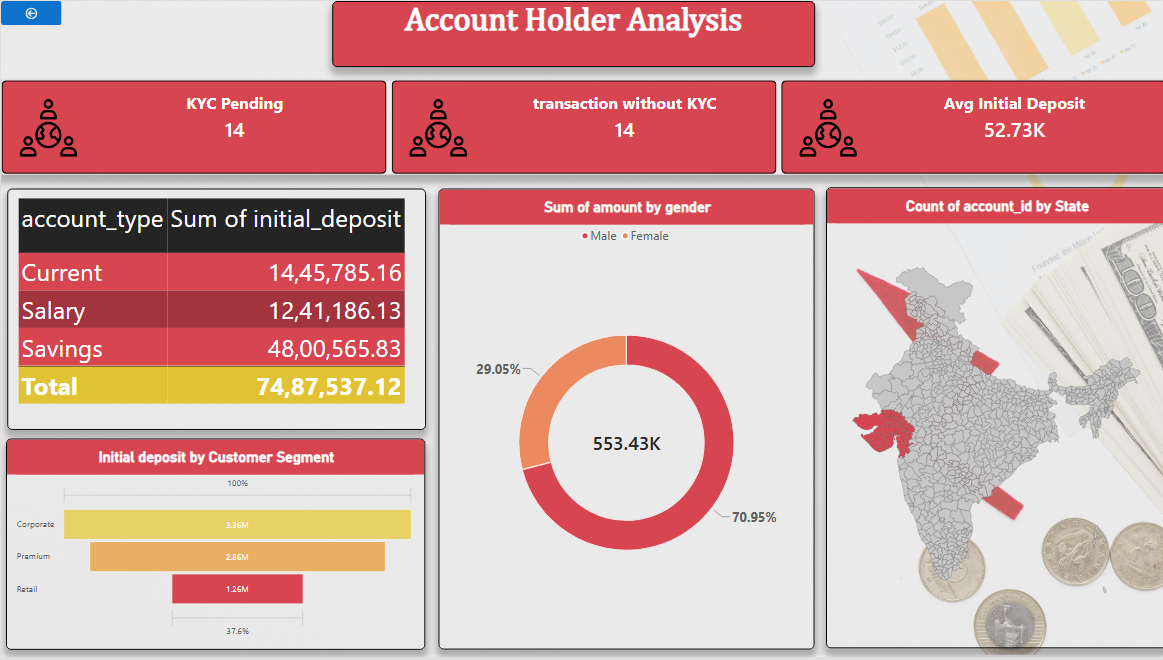

This screenshot's page, from the dashboard's own definition file:
{"tool":"powerbi","page":{"name":"Customer Analysis","canvas":[1920,1080],"ordinal":2},"visuals":[{"type":"textbox","box":[545.5,0,795.5,109.1],"z":0},{"type":"tableEx","fields":{"Values":["account_holders.account_type","Sum(account_holders.initial_deposit)"]},"box":[10.3,308.7,689.5,397.3],"z":1000},{"type":"cardVisual","fields":{"Data":["account_holders.kyc Pending","account_holders.kyc pending but transaction success","account_holders.Avg Initial Deposit"]},"box":[0,129.5,1920.5,156.8],"z":2000},{"type":"shapeMap","title":"Count of account_id by State","fields":{"Category":["account_holders.state"],"Value":["CountNonNull(bank_transactions.account_id)"]},"box":[1358.5,306.7,561.9,759.5],"z":3000},{"type":"donutChart","fields":{"Category":["account_holders.gender"],"Y":["Sum(bank_transactions.amount)"]},"box":[720.4,308.7,619.6,759.5],"z":4000},{"type":"actionButton","box":[0,0,100,40],"z":5000},{"type":"funnel","title":"Initial deposit by Customer Segment","fields":{"Category":["account_holders.customer_segment"],"Y":["Sum(account_holders.initial_deposit)"]},"box":[9.1,720.5,690,347.7],"z":6000}]}

Visuals, with their boxes in screenshot pixels (x1, y1, x2, y2), scaled from the page's 1920x1080 canvas onto the 1163x660 screenshot:
textbox: region(330, 0, 812, 67)
tableEx - account_holders.account_type x Sum(account_holders.initial_deposit): region(6, 189, 424, 431)
cardVisual - account_holders.kyc Pending x account_holders.kyc pending but transaction success: region(0, 79, 1162, 175)
"Count of account_id by State" shapeMap: region(823, 187, 1162, 652)
donutChart - account_holders.gender x Sum(bank_transactions.amount): region(436, 189, 812, 653)
actionButton: region(0, 0, 61, 24)
"Initial deposit by Customer Segment" funnel: region(6, 440, 423, 653)
